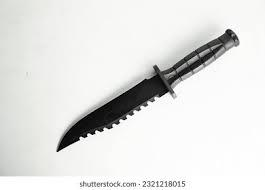Knife: (55, 28, 239, 152)
